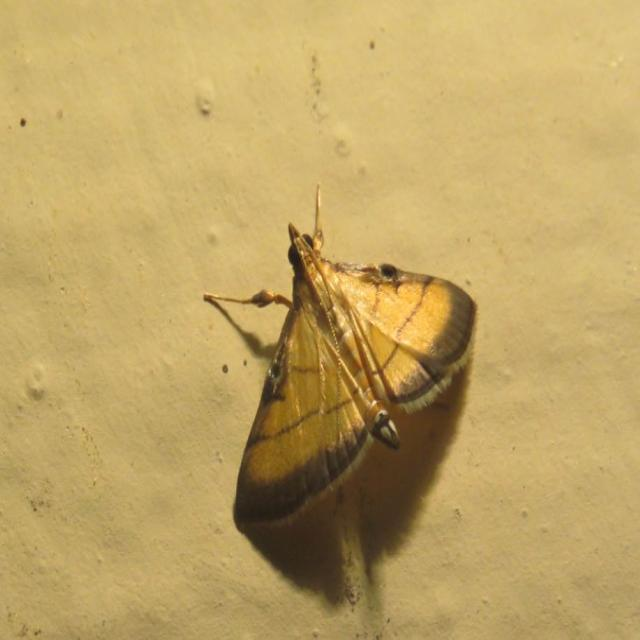rice leaf roller -penggulung daun padi-: (201, 179, 477, 531)
